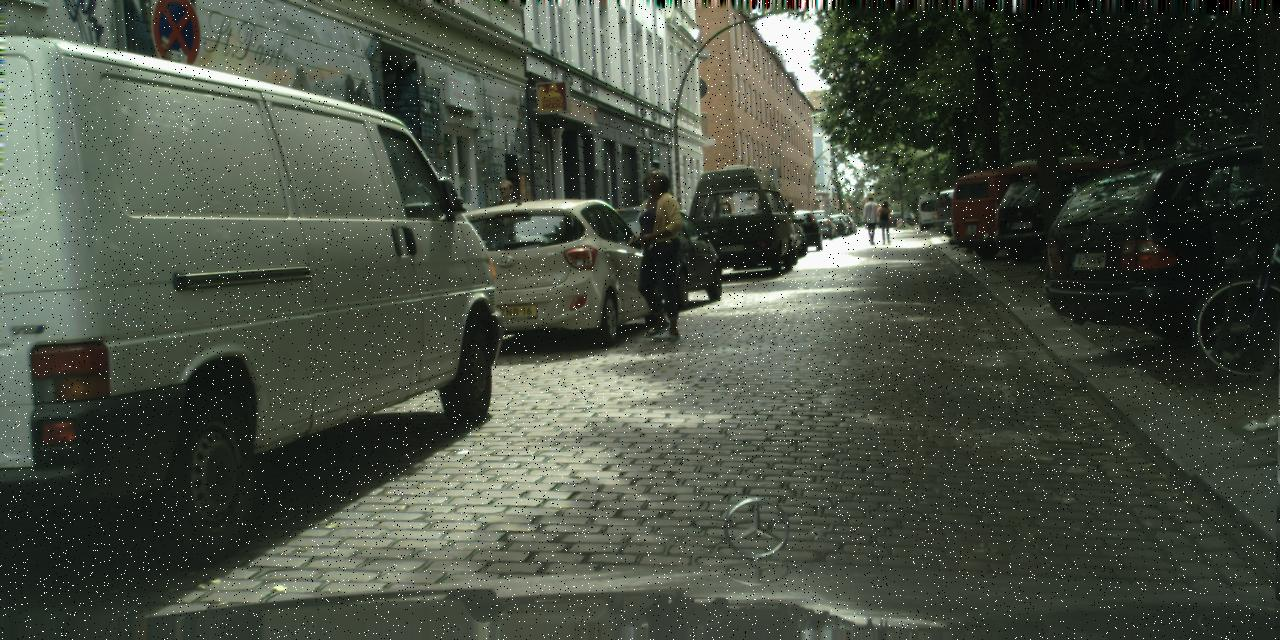ped: (625, 167, 693, 335), (486, 178, 531, 288), (861, 196, 881, 244), (877, 200, 894, 242)
